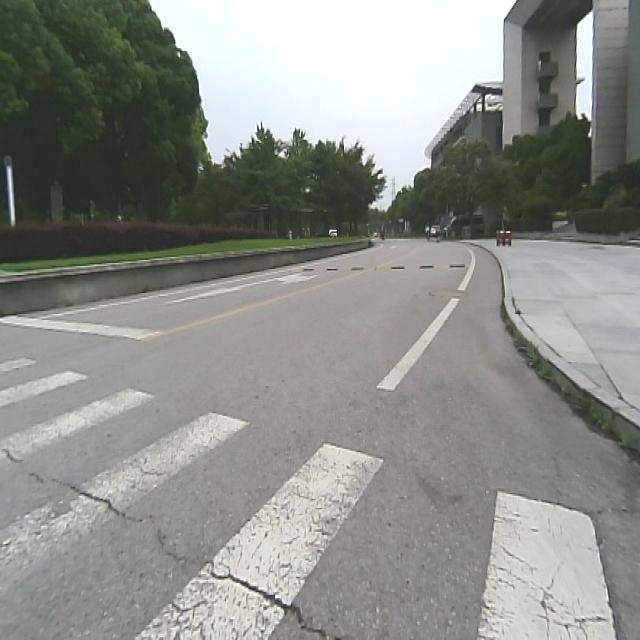Speed Bump: (385, 258, 471, 274), (288, 260, 372, 273)
